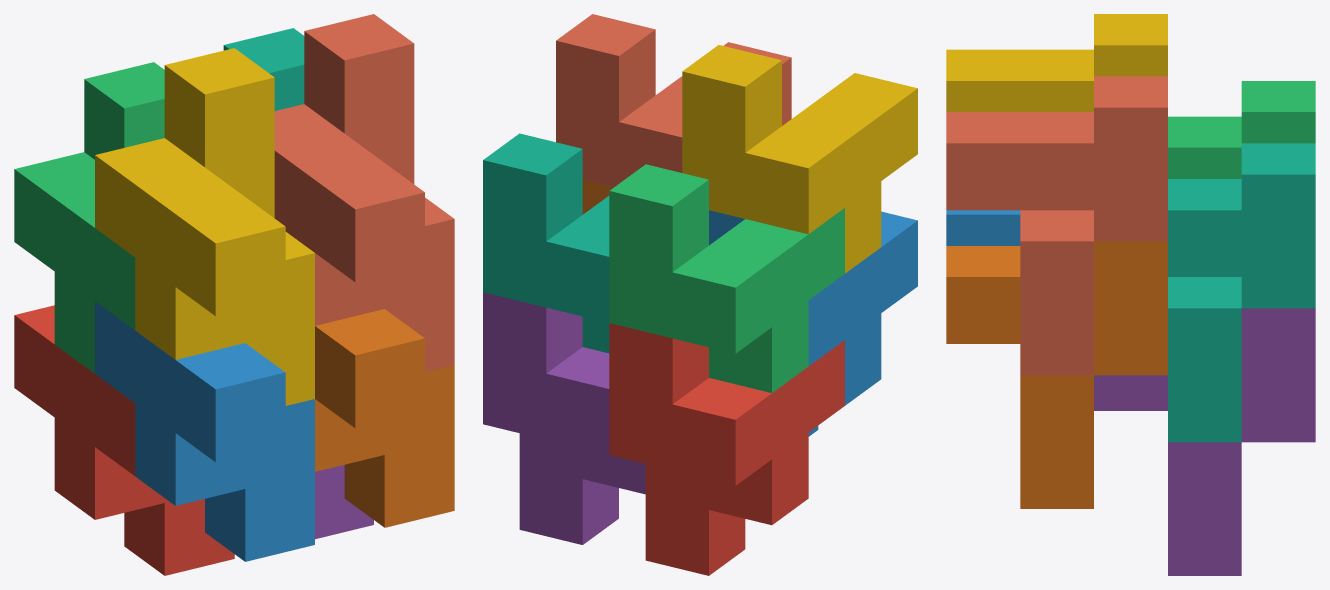
File: tiling.obj
3 renders of one model, left to right at view 1: azimuth 30°, elevation 25°; view 2: azimuth 150°, elevation 25°; view 3: azimuth 270°, elevation 25°, orthographic. The views are drawn at different scales.
Visible parts, largest first — view 1: copy_1_domain_4, copy_1_domain_8, copy_1_domain_2, copy_1_domain_6, copy_1_domain_3, copy_1_domain_1, copy_1_domain_7, copy_1_domain_5; view 2: copy_1_domain_1, copy_1_domain_3, copy_1_domain_4, copy_1_domain_5, copy_1_domain_7, copy_1_domain_8, copy_1_domain_2, copy_1_domain_6; view 3: copy_1_domain_8, copy_1_domain_7, copy_1_domain_6, copy_1_domain_5, copy_1_domain_4, copy_1_domain_3, copy_1_domain_2.
Boxes of the visible parts, x1,y1,x2,y2 form: copy_1_domain_4: (95,48,314,405); copy_1_domain_8: (274,14,454,371); copy_1_domain_2: (95,301,314,561); copy_1_domain_6: (315,309,454,527); copy_1_domain_3: (14,62,164,373); copy_1_domain_1: (14,305,234,575); copy_1_domain_7: (223,28,304,110); copy_1_domain_5: (315,465,373,539); copy_1_domain_1: (609,323,844,575); copy_1_domain_3: (609,164,844,392); copy_1_domain_4: (682,45,917,273); copy_1_domain_5: (483,292,645,544); copy_1_domain_7: (483,133,609,353); copy_1_domain_8: (556,14,791,186); copy_1_domain_2: (709,210,917,436); copy_1_domain_6: (582,179,613,214); copy_1_domain_8: (946,76,1167,375); copy_1_domain_7: (1168,143,1315,442); copy_1_domain_6: (946,241,1167,508); copy_1_domain_5: (1094,308,1315,575); copy_1_domain_4: (946,14,1167,111); copy_1_domain_3: (1168,81,1315,178); copy_1_domain_2: (946,210,1020,245).
Bounding box in the file's own units: 4 × 7 × 5.
